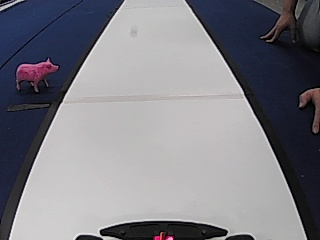pig: (12, 55, 59, 93)
